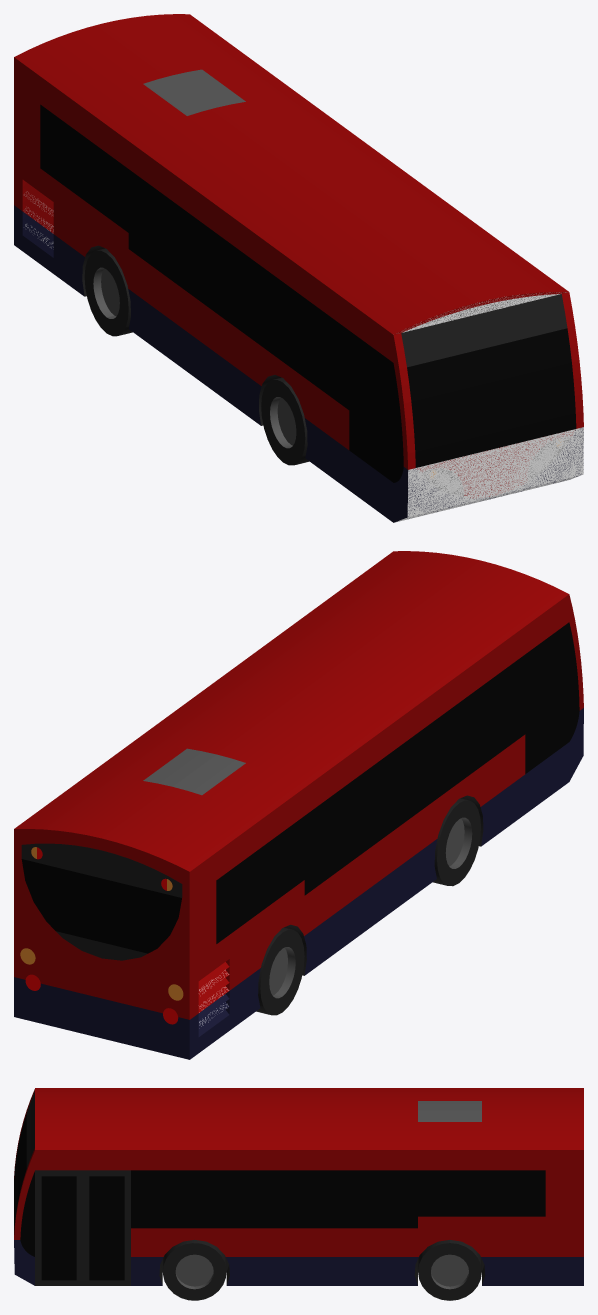
File: enviro1door.dae
3 views of the same model, one above another, from view 1: azimuth 30°, elevation 25°; view 2: azimuth 150°, elevation 25°; view 3: azimuth 270°, elevation 25° (orthographic). The views are drawn at different scales.
Visible parts, largest first — view 1: SketchUp (×12); view 2: SketchUp (×12); view 3: SketchUp (×15).
Boxes of the visible parts, x1,y1,x2,y2 form: SketchUp (×12): [14, 14, 583, 522]; SketchUp (×12): [14, 551, 583, 1059]; SketchUp (×15): [14, 1088, 583, 1300].
Bounding box in the file's own units: 9.06 × 35.16 × 10.85.
